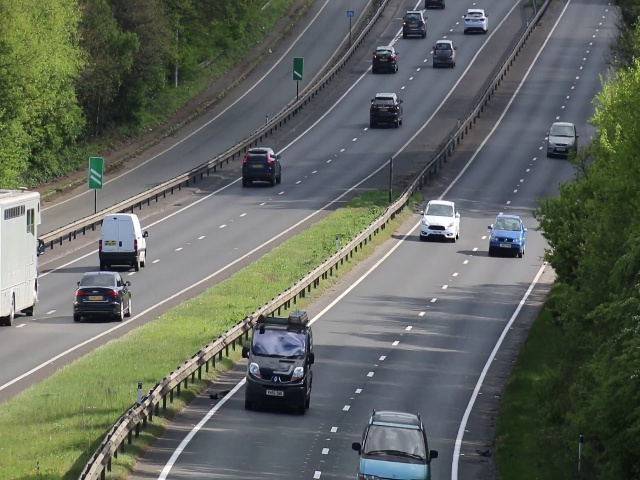car: (245, 326, 315, 415), (358, 416, 429, 480), (96, 214, 149, 273), (73, 269, 131, 322), (485, 215, 527, 257), (241, 147, 284, 187), (420, 200, 460, 241), (369, 90, 403, 129), (546, 118, 577, 159), (369, 44, 399, 74), (401, 8, 427, 41), (464, 5, 487, 35), (433, 39, 456, 67)
